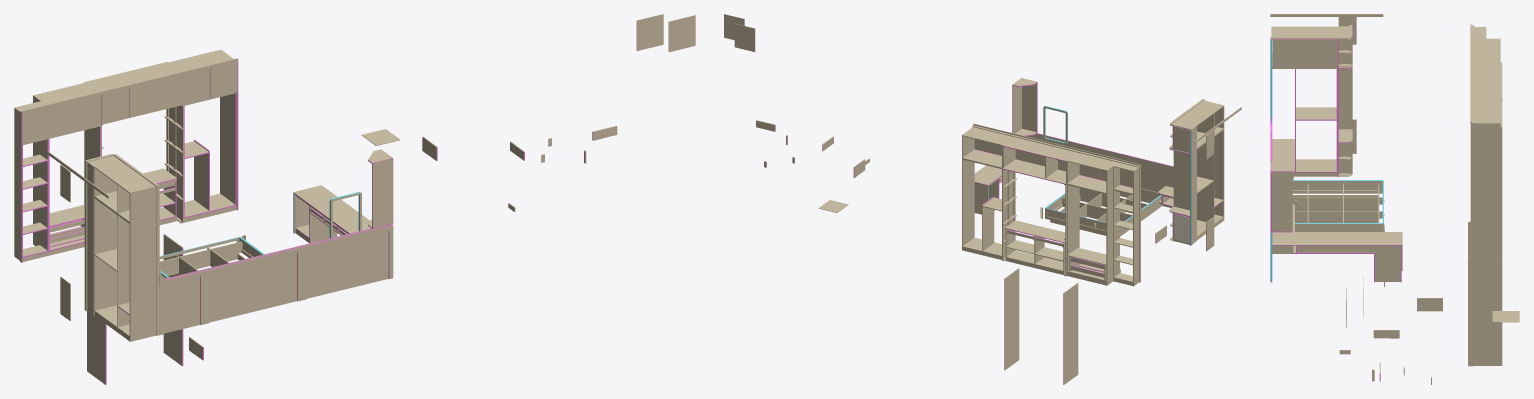
3 renders of one model, left to right at view 1: azimuth 30°, elevation 25°; view 2: azimuth 150°, elevation 25°; view 3: azimuth 270°, elevation 25°, orthographic. The views are drawn at different scales.
Visible parts, largest first — view 1: Geom3D (×15), Geom3D_ABF_PART_172____LYR_[Layer0]____172. Đầu giường <Chập, Geom3D_ABF_PART_168____LYR_[Layer0]____168. Đầu giường <Chập, Geom3D_ABF_PART_119____LYR_[Layer0]____119. Đầu giường <Chập, Geom3D_ABF_PART_299____LYR_[Layer0]____299. Bàn phấn - md 1 , Geom3D_ABF_PART_138____LYR_[Layer0]____138. Kệ phấn - Hậu, Geom3D_ABF_PART_53____LYR_[Layer0]____53. Hệ tủ áo - md 3 tr, Geom3D_ABF_PART_78____LYR_[Layer0]____78. Hệ tủ áo - md dưới, Geom3D_ABF_PART_196____LYR_[Layer0]____196. Giường - Xương g, Geom3D_ABF_PART_46____LYR_[Layer0]____46. Hệ tủ áo - md 4 dư, Geom3D_ABF_PART_6____LYR_[_CÁNH]____6. Hệ tủ áo - md 3 trên , Geom3D_ABF_PART_86____LYR_[_CÁNH]____86. Hệ tủ áo - md 3 trê (+7 smaller); view 2: Geom3D (×17), Geom3D_ABF_PART_46____LYR_[Layer0]____46. Hệ tủ áo - md 4 dư, Geom3D_ABF_PART_78____LYR_[Layer0]____78. Hệ tủ áo - md dưới, Geom3D_ABF_PART_172____LYR_[Layer0]____172. Đầu giường <Chập, Geom3D_ABF_PART_53____LYR_[Layer0]____53. Hệ tủ áo - md 3 tr, Geom3D_ABF_PART_138____LYR_[Layer0]____138. Kệ phấn - Hậu, Geom3D_ABF_PART_21____LYR_[Layer0]____21. Hệ tủ áo - md 3 tr, Geom3D_ABF_PART_36____LYR_[Layer0]____36. Hệ tủ áo - Tủ tivi, Geom3D_ABF_PART_108____LYR_[Layer0]____108. Hệ tủ áo - md 4 , Geom3D_ABF_PART_64____LYR_[Layer0]____64. Hệ tủ áo - Tủ tivi; view 3: Geom3D (×12), Geom3D_ABF_PART_46____LYR_[Layer0]____46. Hệ tủ áo - md 4 dư, Geom3D_ABF_PART_284____LYR_[Layer0]____284. Bàn phấn - md 1 , Geom3D_ABF_PART_299____LYR_[Layer0]____299. Bàn phấn - md 1 , Geom3D_ABF_PART_118____LYR_[Layer0]____118. Kệ phấn - Hậu, Geom3D_ABF_PART_129____LYR_[Layer0]____129. Giường - Xương g, Geom3D_ABF_PART_53____LYR_[Layer0]____53. Hệ tủ áo - md 3 tr, Geom3D_ABF_PART_104____LYR_[Layer0]____104. Giường - Xương g, Geom3D_ABF_PART_148____LYR_[Layer0]____148. Giường - Vai giư, Geom3D_ABF_PART_158____LYR_[_CÁNH]____158. Tủ áo - md 1 trên, Geom3D_ABF_PART_141____LYR_[_CÁNH]____141. Tủ áo - md 1 trên, Geom3D_ABF_PART_142____LYR_[_CÁNH]____142. Tủ áo - md 1 trên (+14 smaller).
Boxes of the visible parts, x1,y1,x2,y2 form: Geom3D (×15): [14, 14, 695, 341]; Geom3D_ABF_PART_172____LYR_[Layer0]____172. Đầu giường <Chập: [204, 246, 301, 322]; Geom3D_ABF_PART_168____LYR_[Layer0]____168. Đầu giường <Chập: [301, 224, 392, 298]; Geom3D_ABF_PART_119____LYR_[Layer0]____119. Đầu giường <Chập: [159, 269, 204, 333]; Geom3D_ABF_PART_299____LYR_[Layer0]____299. Bàn phấn - md 1 : [293, 185, 370, 233]; Geom3D_ABF_PART_138____LYR_[Layer0]____138. Kệ phấn - Hậu: [372, 159, 393, 227]; Geom3D_ABF_PART_53____LYR_[Layer0]____53. Hệ tủ áo - md 3 tr: [84, 62, 180, 91]; Geom3D_ABF_PART_78____LYR_[Layer0]____78. Hệ tủ áo - md dưới: [87, 311, 105, 384]; Geom3D_ABF_PART_196____LYR_[Layer0]____196. Giường - Xương g: [159, 241, 242, 275]; Geom3D_ABF_PART_46____LYR_[Layer0]____46. Hệ tủ áo - md 4 dư: [163, 234, 182, 365]; Geom3D_ABF_PART_6____LYR_[_CÁNH]____6. Hệ tủ áo - md 3 trên : [156, 74, 184, 111]; Geom3D_ABF_PART_86____LYR_[_CÁNH]____86. Hệ tủ áo - md 3 trê: [101, 88, 128, 124]; Geom3D (×17): [734, 23, 1224, 286]; Geom3D_ABF_PART_46____LYR_[Layer0]____46. Hệ tủ áo - md 4 dư: [1004, 268, 1019, 370]; Geom3D_ABF_PART_78____LYR_[Layer0]____78. Hệ tủ áo - md dưới: [1063, 282, 1078, 384]; Geom3D_ABF_PART_172____LYR_[Layer0]____172. Đầu giường <Chập: [1091, 147, 1166, 206]; Geom3D_ABF_PART_53____LYR_[Layer0]____53. Hệ tủ áo - md 3 tr: [1002, 137, 1077, 161]; Geom3D_ABF_PART_138____LYR_[Layer0]____138. Kệ phấn - Hậu: [1022, 83, 1036, 132]; Geom3D_ABF_PART_21____LYR_[Layer0]____21. Hệ tủ áo - md 3 tr: [1002, 159, 1066, 184]; Geom3D_ABF_PART_36____LYR_[Layer0]____36. Hệ tủ áo - Tủ tivi: [1005, 220, 1065, 242]; Geom3D_ABF_PART_108____LYR_[Layer0]____108. Hệ tủ áo - md 4 : [982, 197, 994, 251]; Geom3D_ABF_PART_64____LYR_[Layer0]____64. Hệ tủ áo - Tủ tivi: [1006, 250, 1063, 271]; Geom3D (×12): [1272, 26, 1500, 261]; Geom3D_ABF_PART_46____LYR_[Layer0]____46. Hệ tủ áo - md 4 dư: [1468, 256, 1502, 365]; Geom3D_ABF_PART_284____LYR_[Layer0]____284. Bàn phấn - md 1 : [1297, 245, 1400, 281]; Geom3D_ABF_PART_299____LYR_[Layer0]____299. Bàn phấn - md 1 : [1295, 232, 1402, 244]; Geom3D_ABF_PART_118____LYR_[Layer0]____118. Kệ phấn - Hậu: [1271, 172, 1292, 231]; Geom3D_ABF_PART_129____LYR_[Layer0]____129. Giường - Xương g: [1292, 197, 1384, 211]; Geom3D_ABF_PART_53____LYR_[Layer0]____53. Hệ tủ áo - md 3 tr: [1474, 62, 1502, 100]; Geom3D_ABF_PART_104____LYR_[Layer0]____104. Giường - Xương g: [1295, 211, 1384, 222]; Geom3D_ABF_PART_148____LYR_[Layer0]____148. Giường - Vai giư: [1295, 224, 1382, 231]; Geom3D_ABF_PART_158____LYR_[_CÁNH]____158. Tủ áo - md 1 trên: [1272, 39, 1294, 67]; Geom3D_ABF_PART_141____LYR_[_CÁNH]____141. Tủ áo - md 1 trên: [1316, 39, 1337, 67]; Geom3D_ABF_PART_142____LYR_[_CÁNH]____142. Tủ áo - md 1 trên: [1295, 39, 1316, 67].
Bounding box in the file's own units: 12.16 × 5.41 × 4.52.
